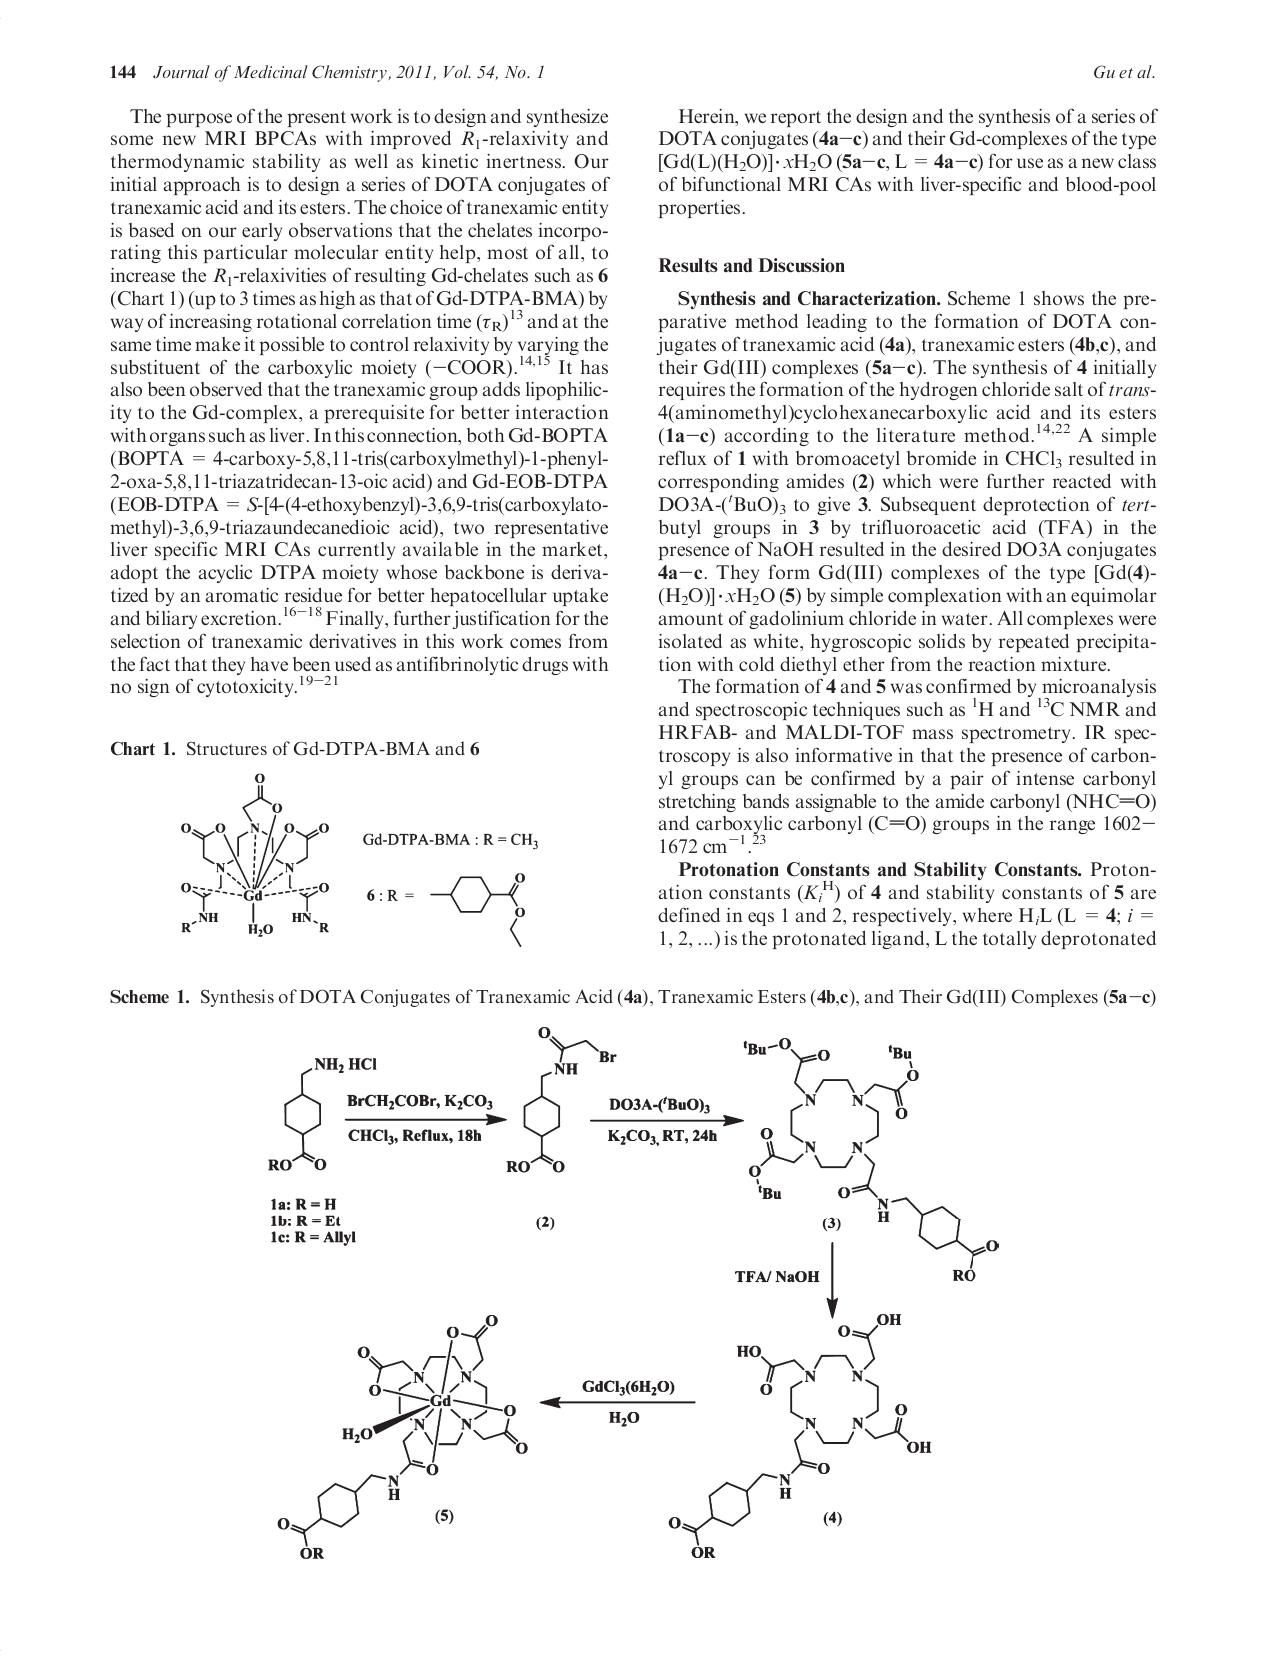exist_molecular: (739, 1024, 1000, 1285), (664, 1313, 932, 1559), (271, 1313, 531, 1563), (172, 770, 344, 942), (504, 1023, 621, 1177), (265, 1053, 383, 1174), (424, 868, 535, 951)
